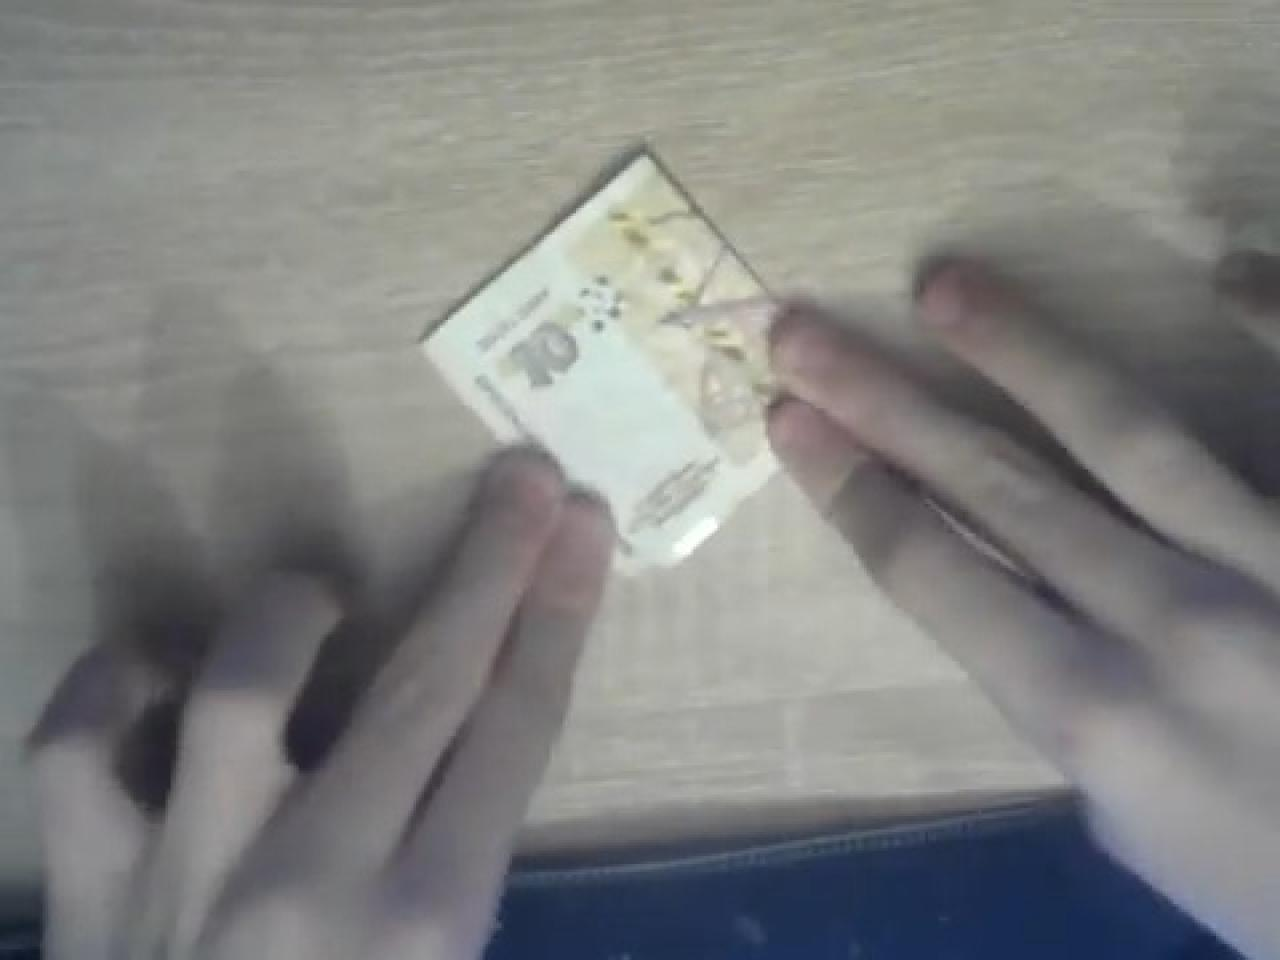10leva: (416, 144, 779, 568)
